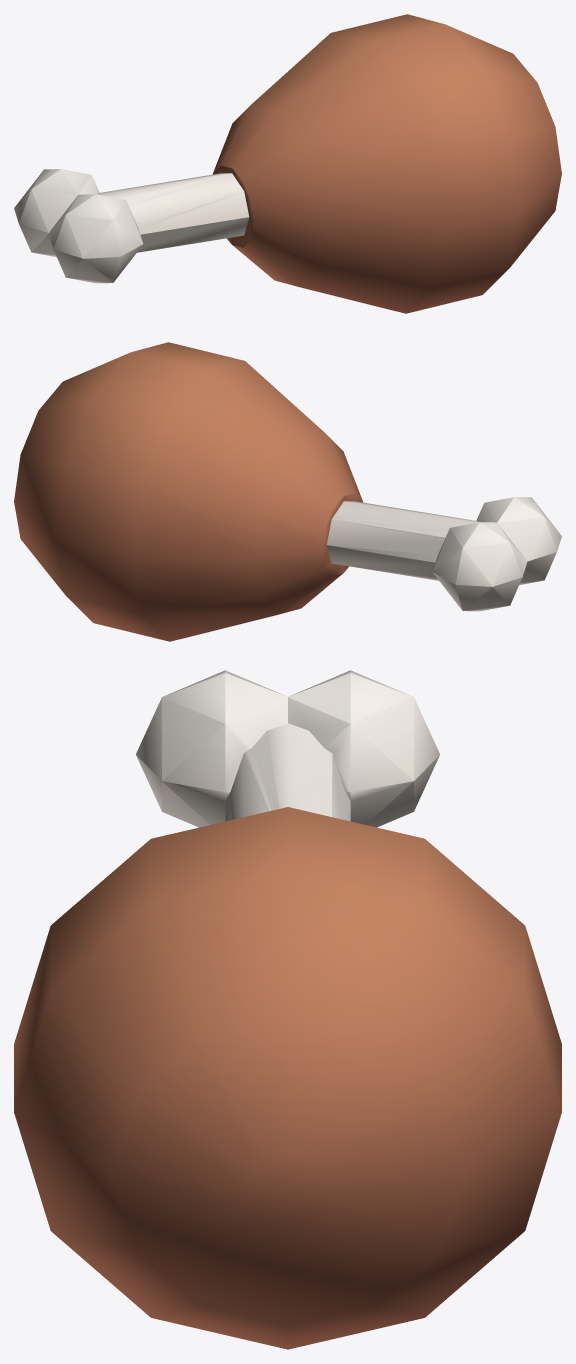
The model's file is ham.glb.
3 views of the same model, one above another, from view 1: azimuth 30°, elevation 25°; view 2: azimuth 150°, elevation 25°; view 3: azimuth 270°, elevation 25° (orthographic). The views are drawn at different scales.
Visible parts, largest first — view 1: ham; view 2: ham; view 3: ham.
Boxes of the visible parts, <box> form: ham: <box>14,14,561,313</box>; ham: <box>14,342,561,641</box>; ham: <box>14,670,561,1349</box>.
Bounding box in the file's own units: 1.16 × 0.5848 × 0.612.
1 material, 1 textured.
